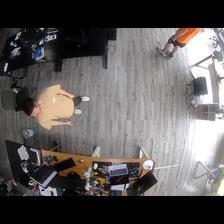normal: (24, 84, 90, 127), (160, 29, 204, 60)
